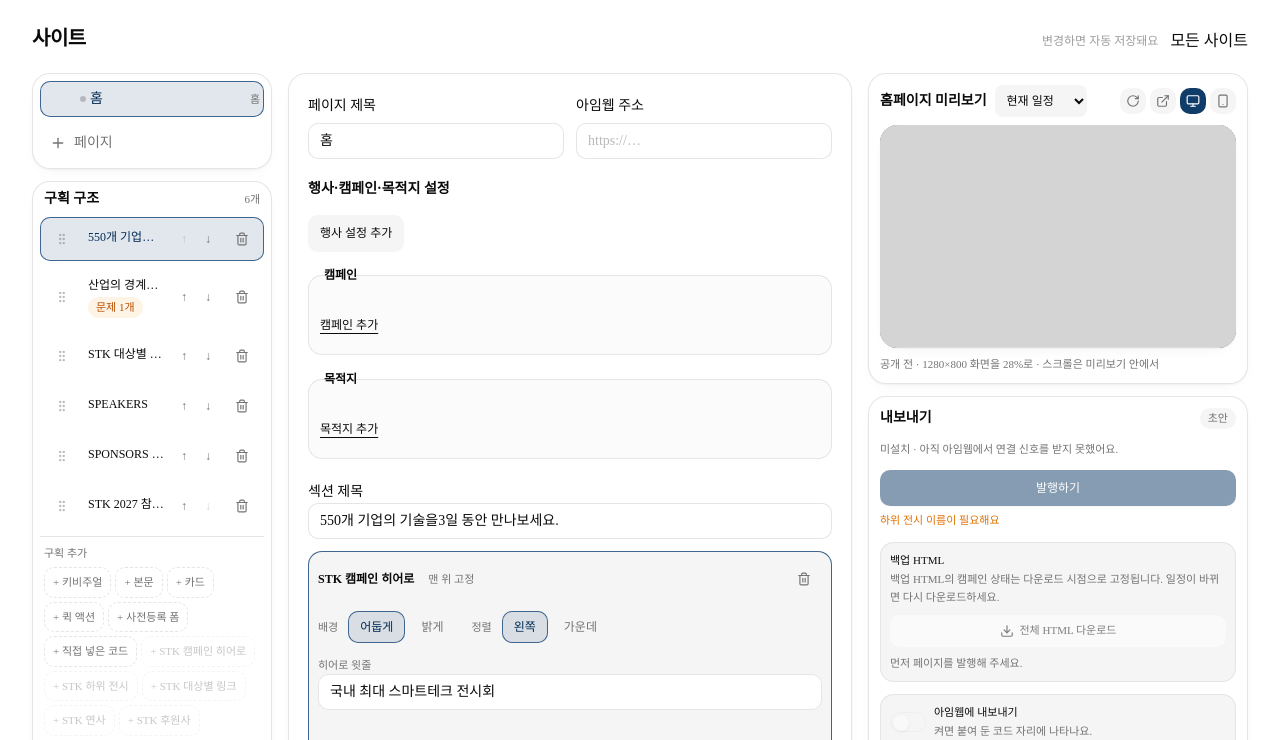
Test: 발행 준비 문제 › 문제가 있는 구획을 고르면 같은 필드의 인라인 오류를 보여 준다
Step 1. Click the button "산업의 경계를 다시 그리는 6개 전문 전시 문제 1개" → (126, 297), box [84,271,168,324]
(page scrolled)
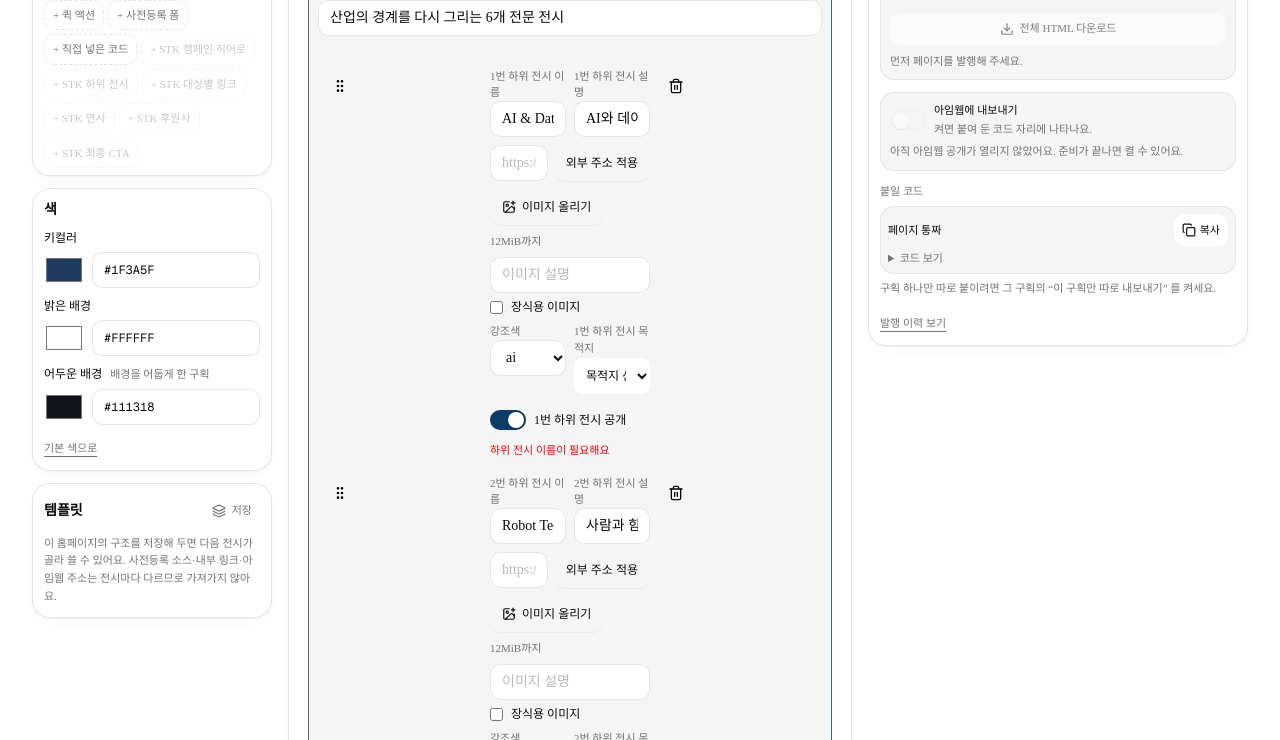
Check: the message "하위 전시 이름이 필요해요" is shown, box [490,444,610,456]
